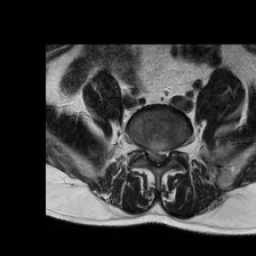CCS_normal: (154, 143, 160, 171)
LFS_severe_stenosis: (168, 140, 176, 162)
LLS_normal: (160, 144, 168, 167)
RFS_stenosis: (139, 138, 147, 159)
RLS_normal: (147, 143, 154, 166)
